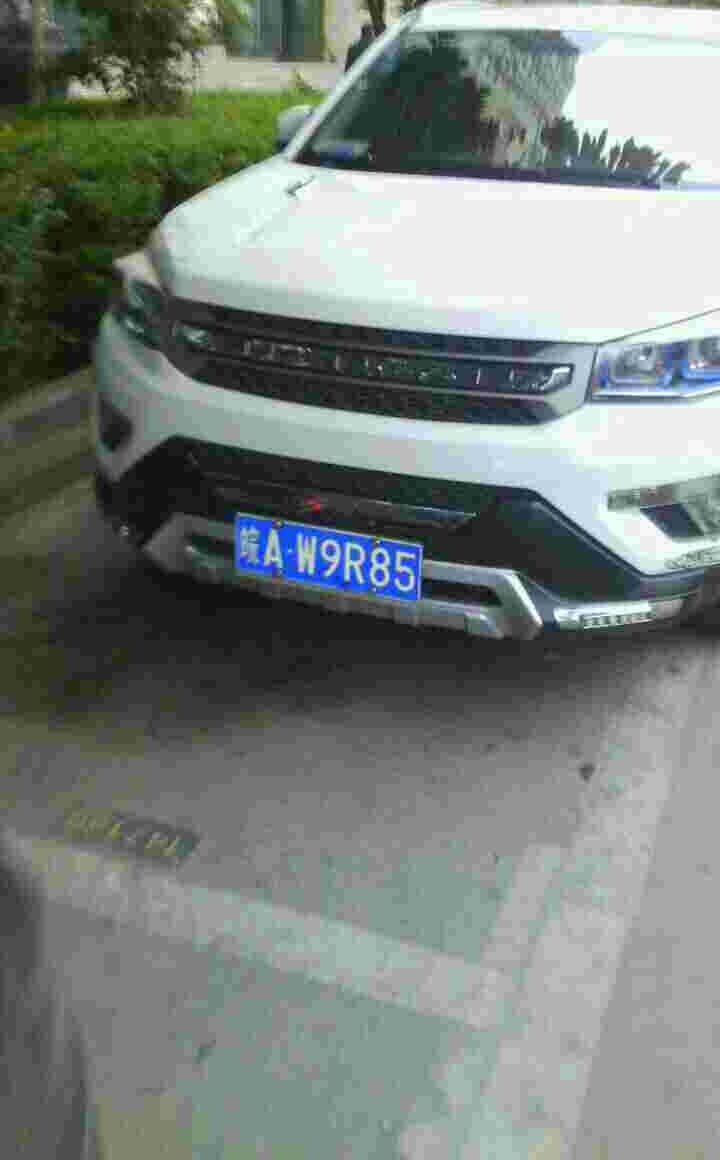car: (233, 511, 432, 612)
